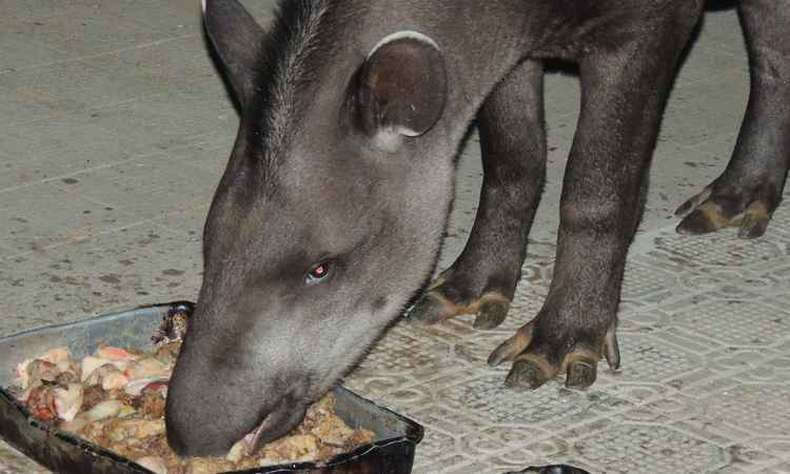Anta: (142, 4, 765, 458)
